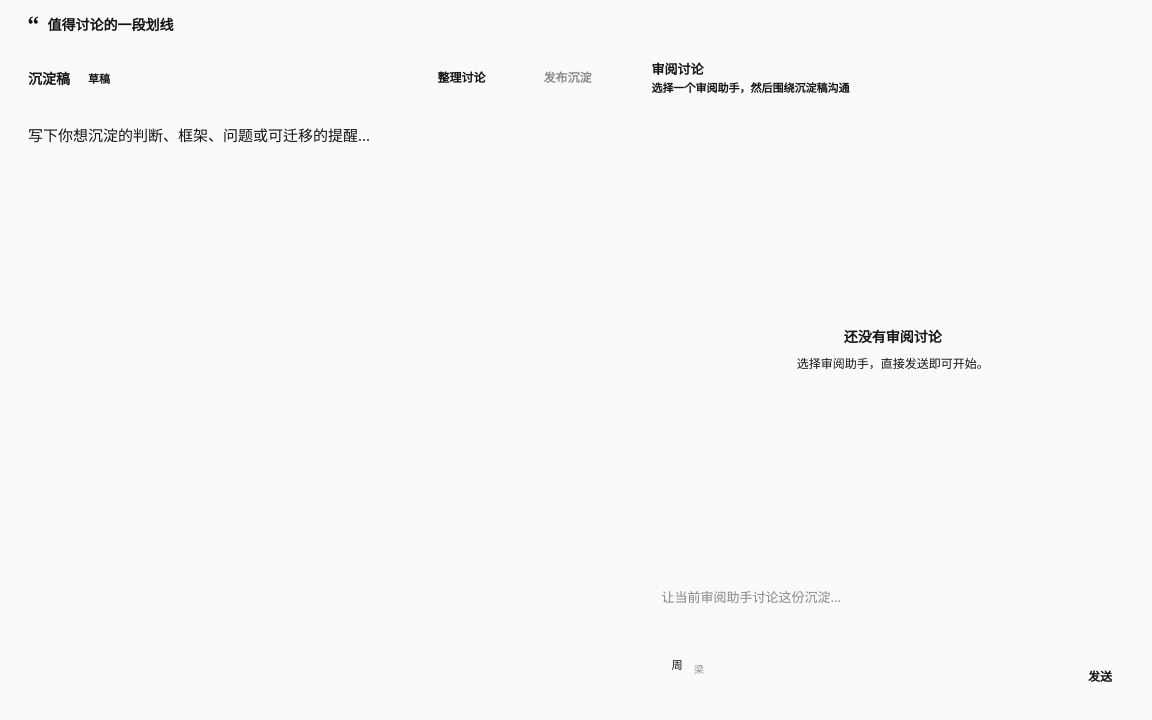
Test case: annotation distillation UI › appends an organized insert proposal to the local draft
Click the button "整理讨论" at (451, 78), box left=402, top=58, right=500, bottom=98
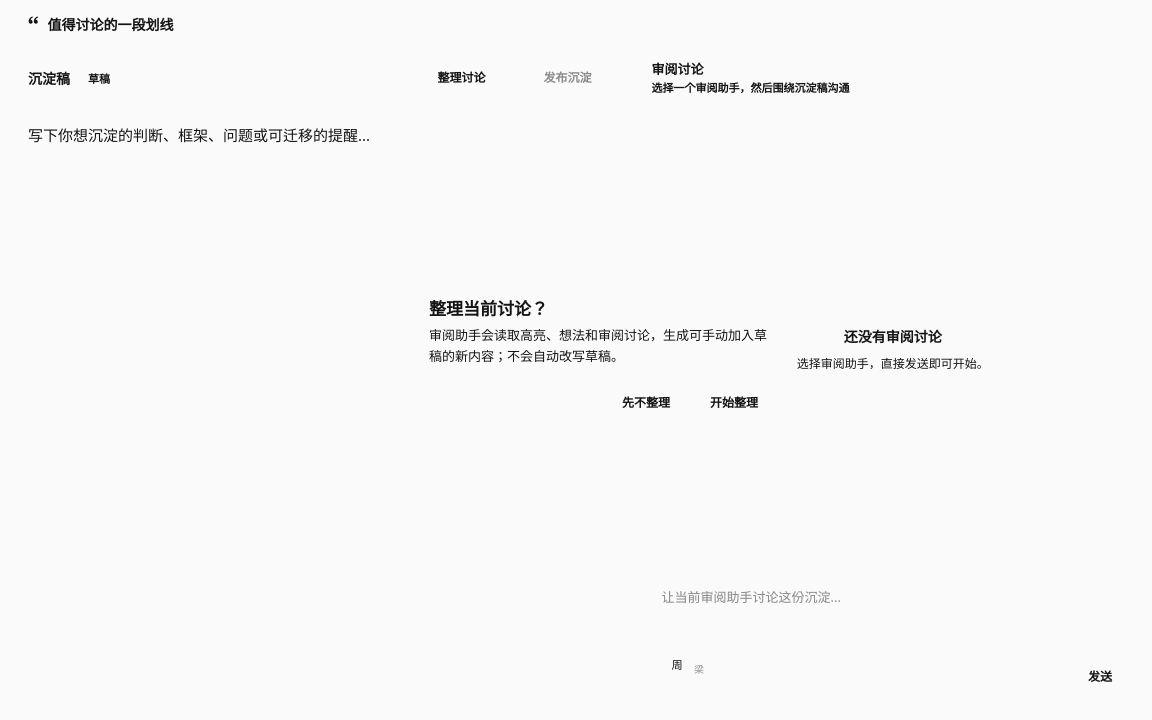
Click the button "开始整理" at (734, 403), box left=695, top=384, right=773, bottom=422
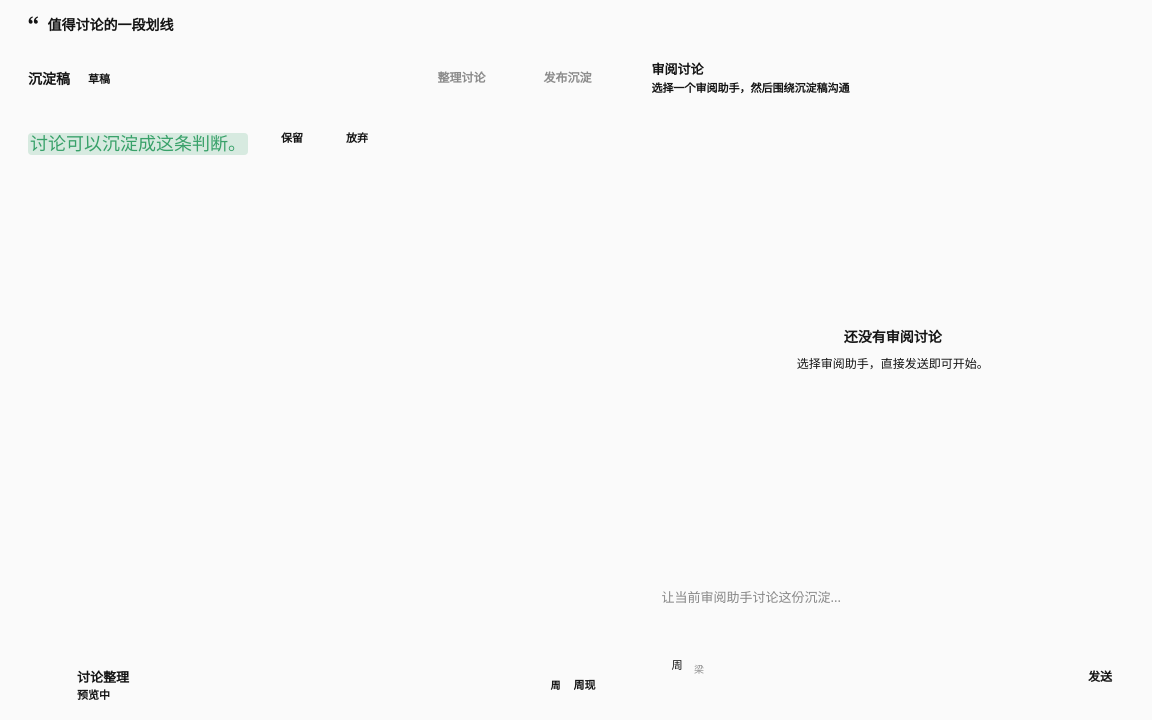
Expected: the element named "草稿变更预览" is shown, left=28, top=122, right=378, bottom=155
Expected: the text "预览中" is shown, left=77, top=687, right=110, bottom=702
Click the button "保留" at (283, 138), box left=253, top=122, right=313, bottom=154
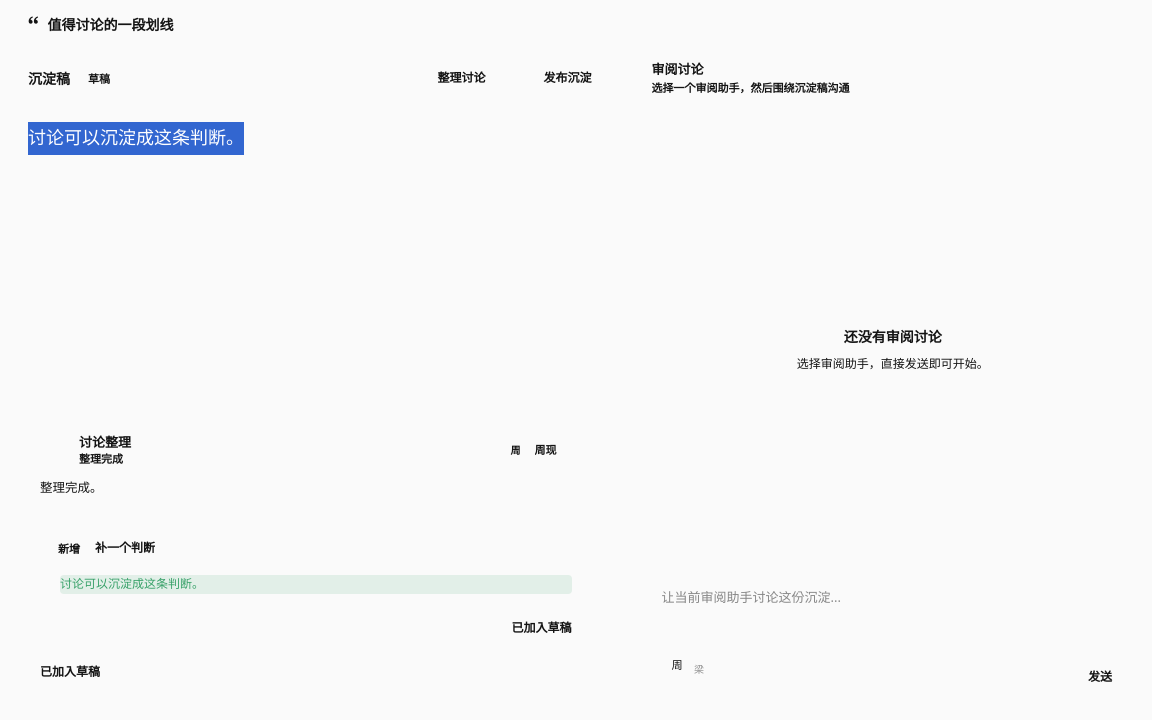
Expected: the 1st text box holds "讨论可以沉淀成这条判断。", left=0, top=104, right=634, bottom=420
Expected: the 1st text "已加入草稿" is shown, left=512, top=619, right=572, bottom=636
